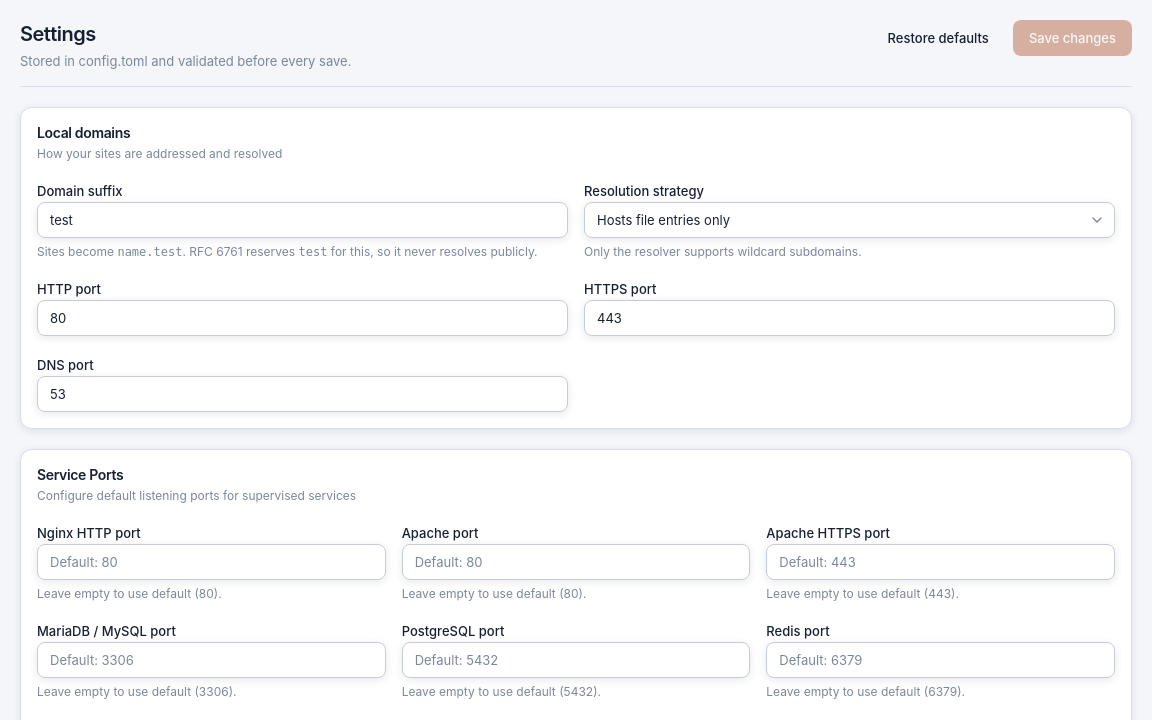
SettingsPage › sends the edited configuration to the backend
The image size is (1152, 720).
Clear the field labelled "Domain suffix": (302, 220) [37,202,568,238]
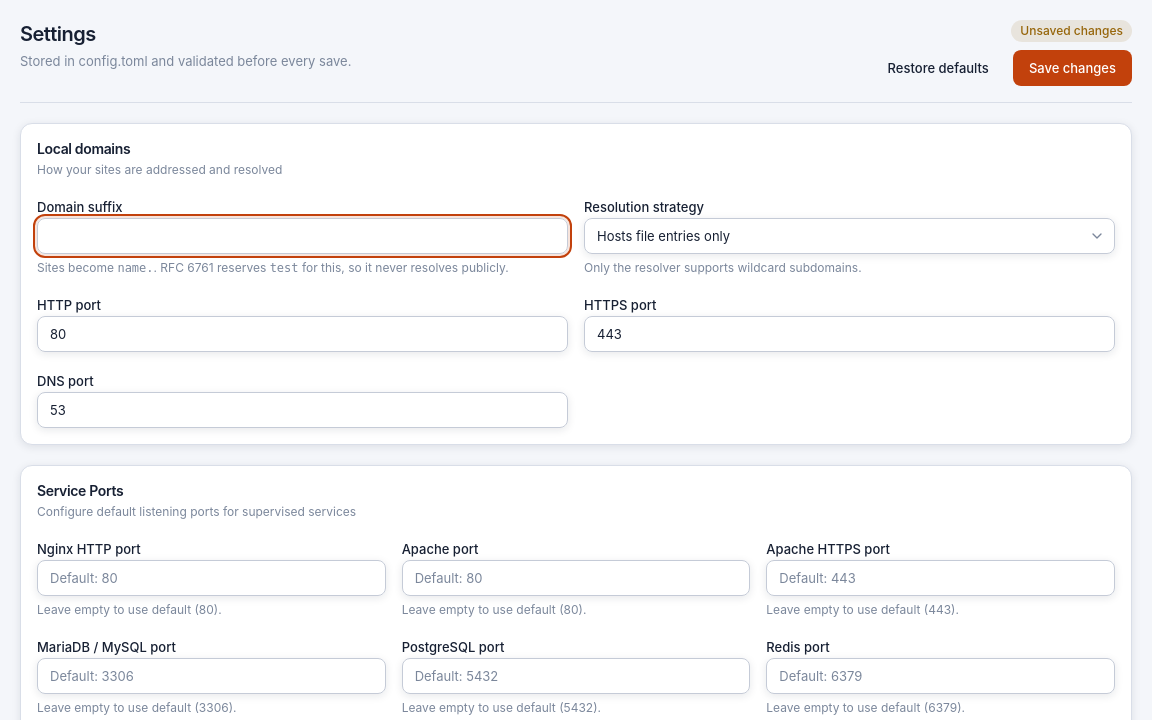
In the field labelled "Domain suffix": (302, 236) [37,218,568,254], type "local"
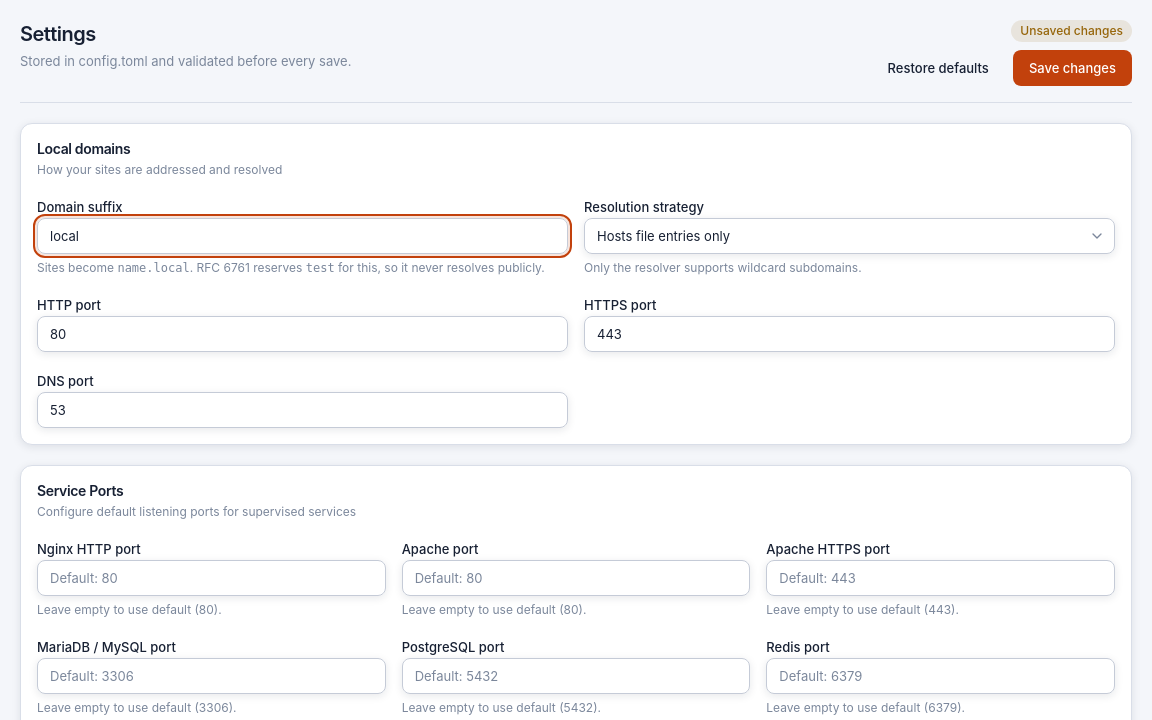
Click the button "Save changes": (1072, 68) [1013,50,1132,86]
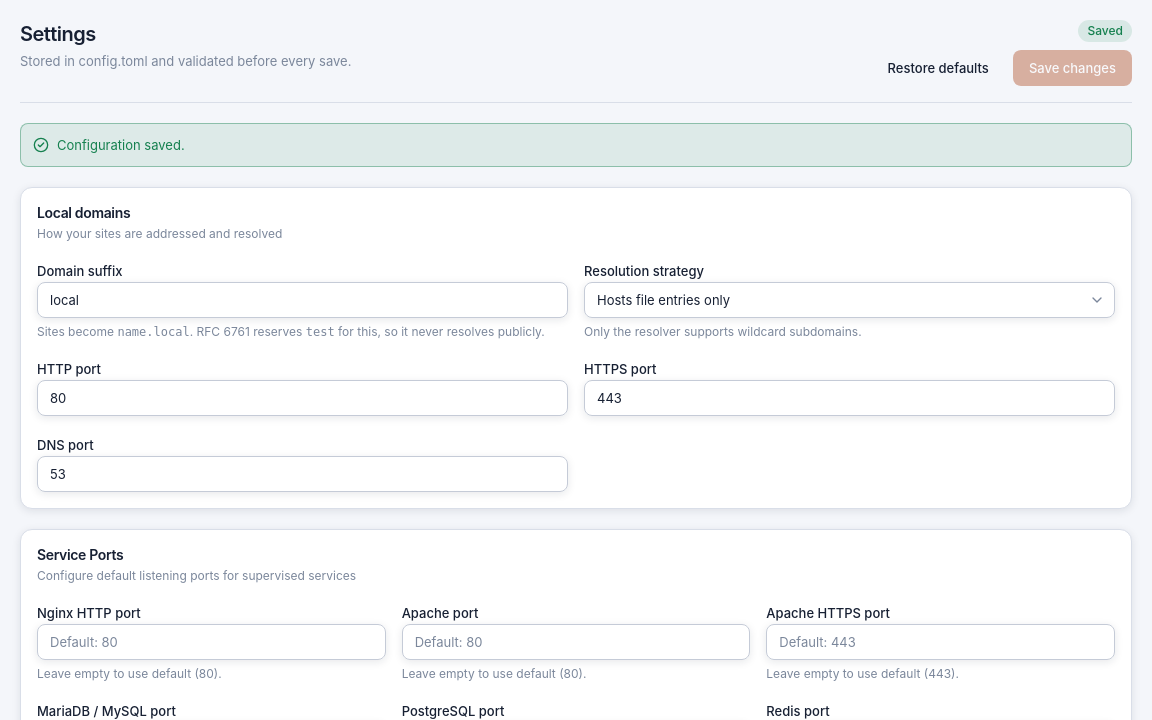
Expected: the message reads "Configuration saved.", [57,137,185,153]
